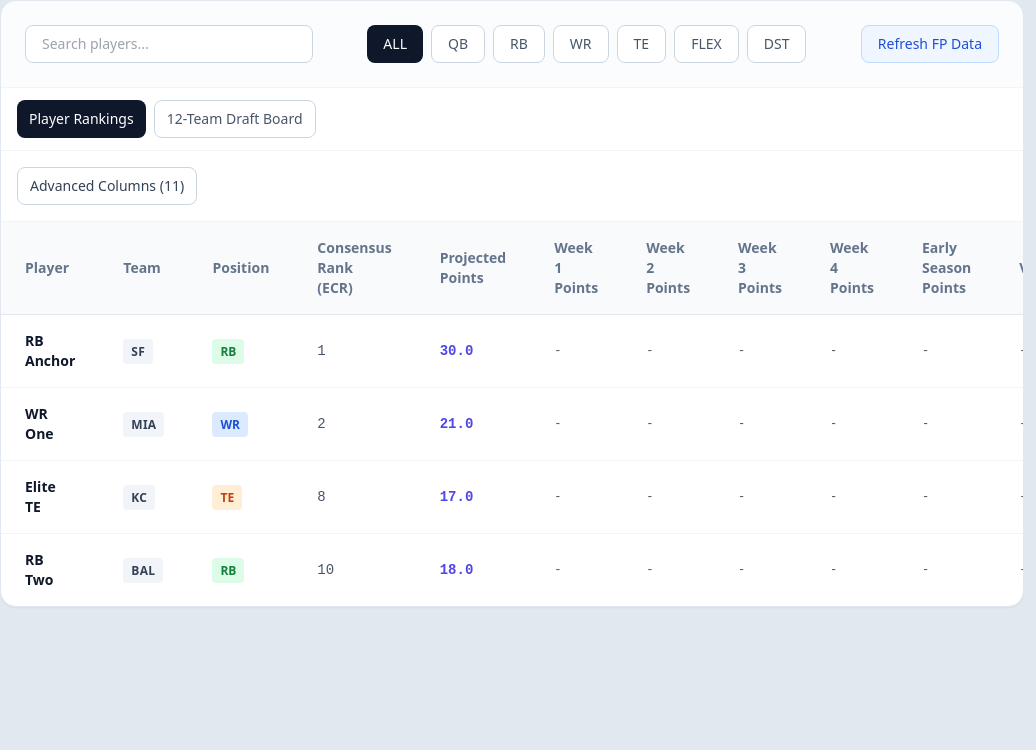
Test: DashboardClient › activates Hero RB path in round 2 when one RB is drafted in round 1
The image size is (1036, 750).
Click the tab with test id "tab-draft-board" at (235, 119), box [154,100,316,138]
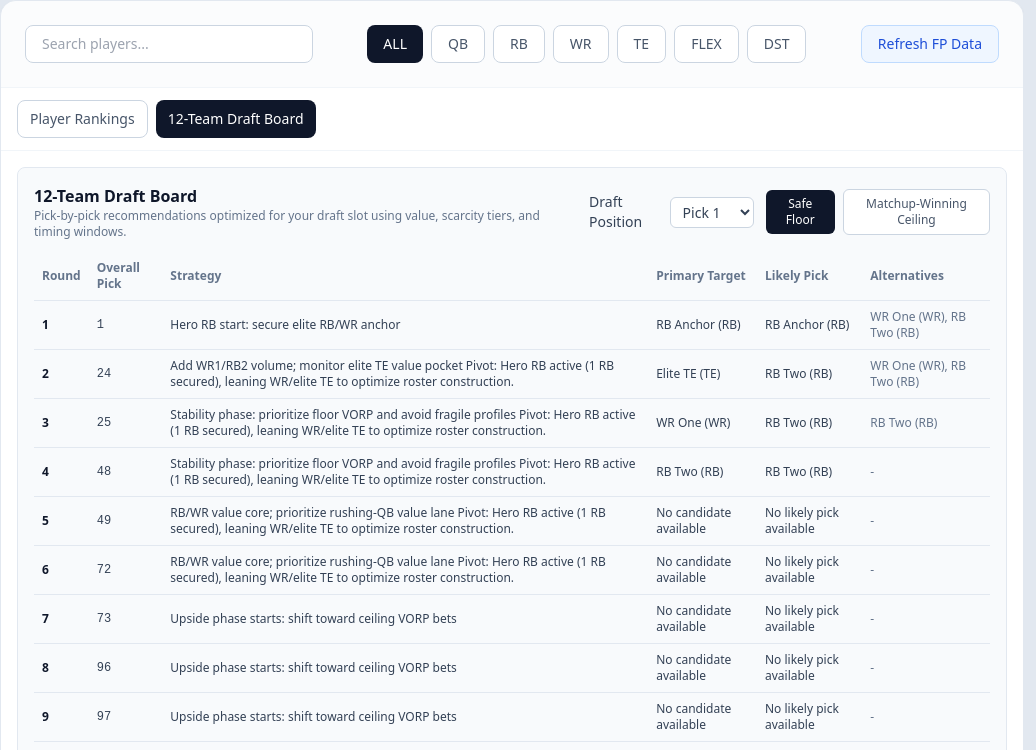
Expected: the cell with test id "draft-board-primary-1" reads "RB Anchor (RB)", [656,316,741,333]
Expected: the row with test id "draft-board-row-2" shows "Hero RB active", [170,357,614,390]
